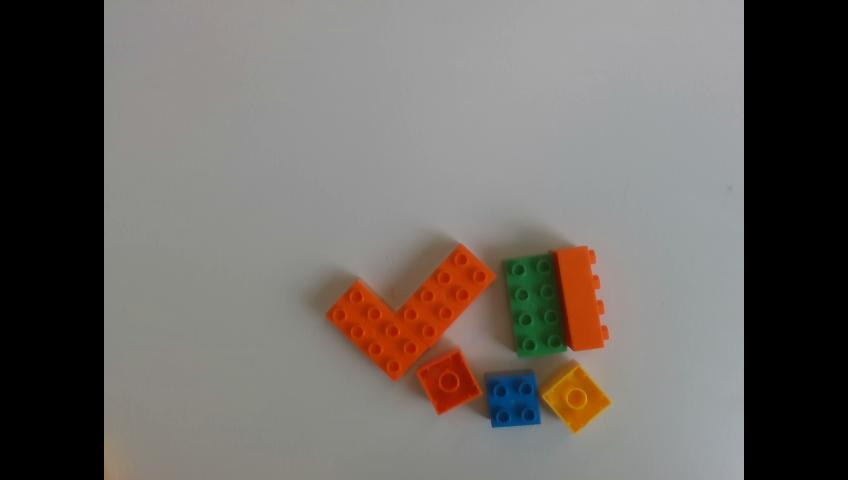2x2_blue: (487, 370, 543, 427)
2x2_orange: (417, 346, 482, 419)
2x2_yellow: (539, 354, 616, 433)
4x2_green: (504, 252, 569, 360)
4x2_orange: (324, 279, 428, 382), (396, 242, 497, 348), (553, 243, 611, 351)
